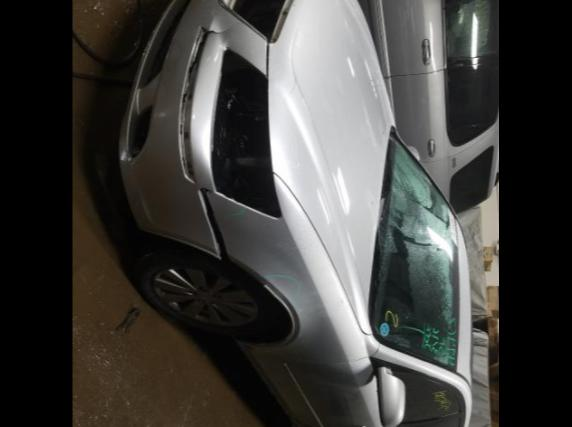Broken part: (122, 0, 276, 260)
Missing part: (212, 48, 284, 216), (178, 38, 206, 182), (230, 0, 294, 42)
